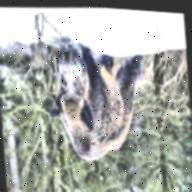boar: (43, 31, 151, 169)
